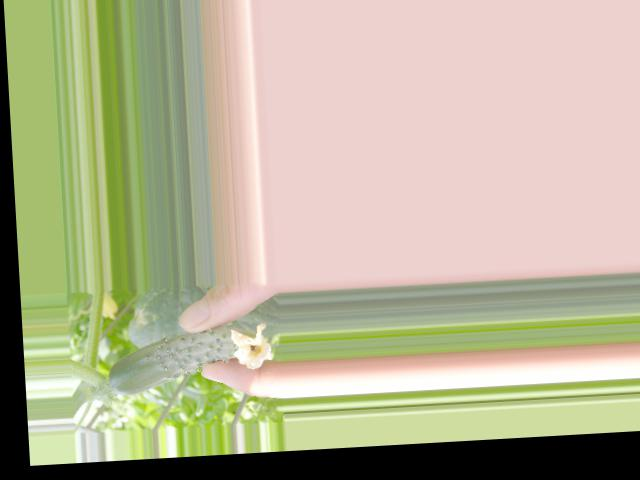cucumber: (105, 322, 273, 395)
